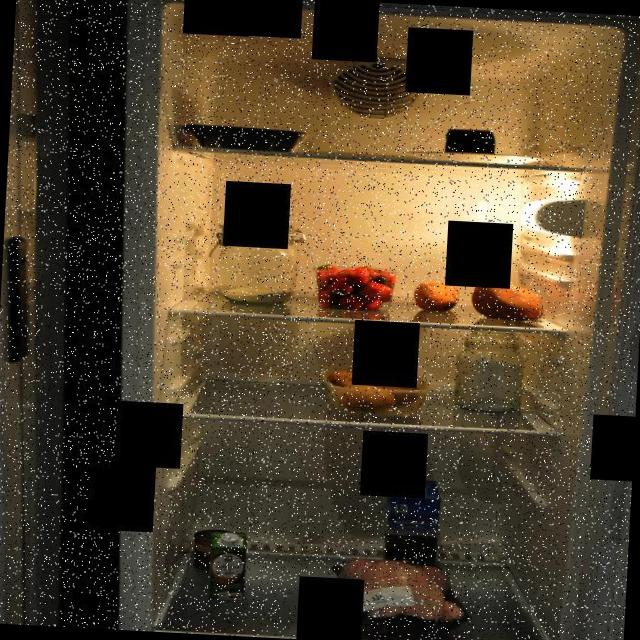Carne pollo: (326, 554, 474, 638)
Leche: (383, 477, 446, 572)
Patata: (321, 362, 436, 420)
Queso: (442, 127, 499, 159)
